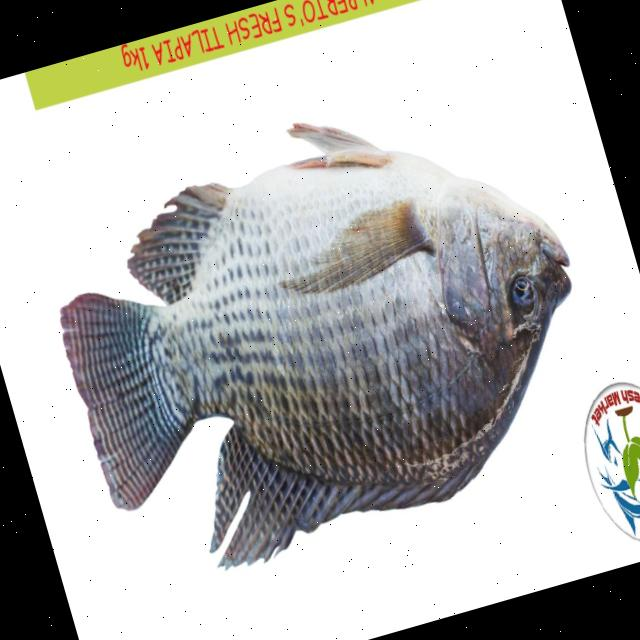ikan: (21, 59, 627, 603)
